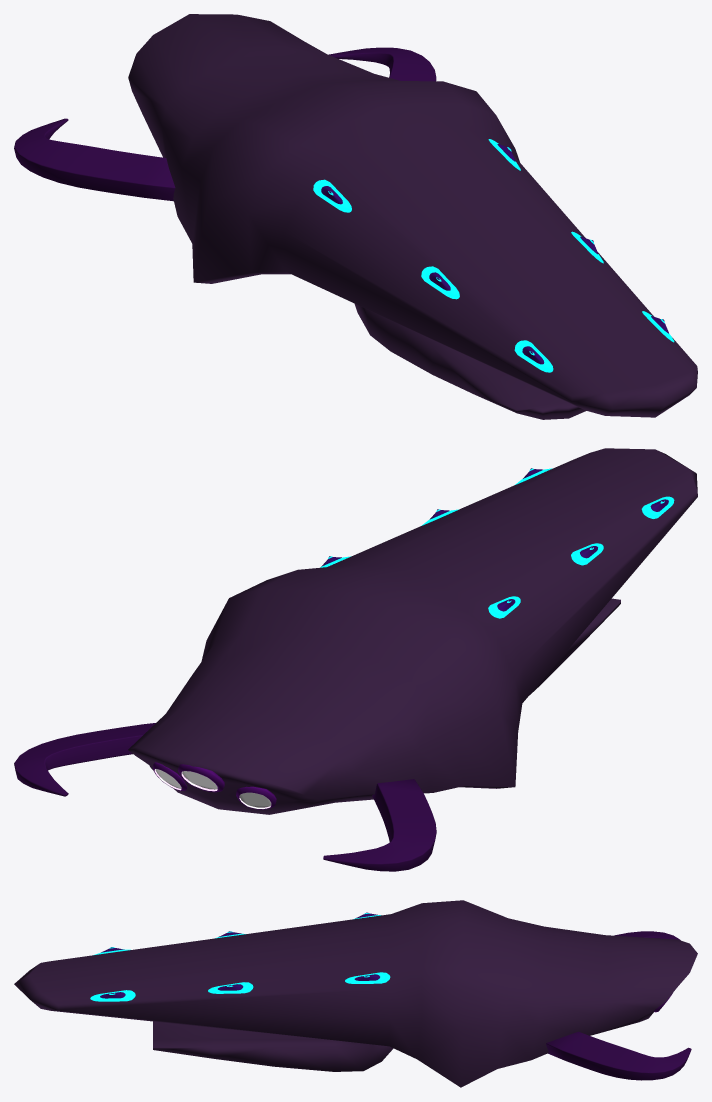
Rendered from Enemy_Corvette.fbx.
The picture shows the model from 3 angles, top to bottom: view 1: azimuth 30°, elevation 25°; view 2: azimuth 150°, elevation 25°; view 3: azimuth 270°, elevation 25°; orthographic projection. The views are drawn at different scales.
Parts seen in each view (by area): view 1: curve3; view 2: curve3; view 3: curve3.
Boxes of the visible parts, x1,y1,x2,y2 form: curve3: (14,14,697,419); curve3: (14,448,697,871); curve3: (14,900,697,1087).
Size of the model in its own units: 2952 by 1424 by 6032.
